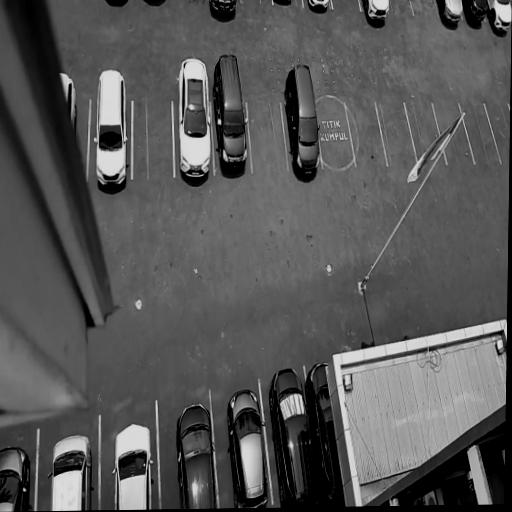Car: (263, 359, 319, 508), (171, 47, 216, 206), (221, 378, 276, 508), (300, 357, 347, 507), (208, 48, 253, 201), (166, 397, 221, 509), (280, 55, 328, 182), (92, 56, 134, 201), (45, 429, 97, 511), (110, 417, 155, 510), (0, 437, 34, 512), (57, 65, 80, 144), (432, 0, 464, 28), (486, 0, 512, 33), (462, 0, 490, 30), (360, 0, 394, 24), (207, 0, 241, 22), (303, 0, 333, 16)
Space Available: (133, 98, 173, 177), (247, 102, 287, 176), (374, 101, 417, 166), (316, 103, 357, 171), (404, 99, 446, 164), (432, 101, 475, 164), (345, 102, 387, 166), (459, 102, 500, 162), (484, 103, 510, 163), (410, 0, 438, 17), (390, 0, 413, 15), (330, 0, 360, 10), (239, 0, 272, 6)
